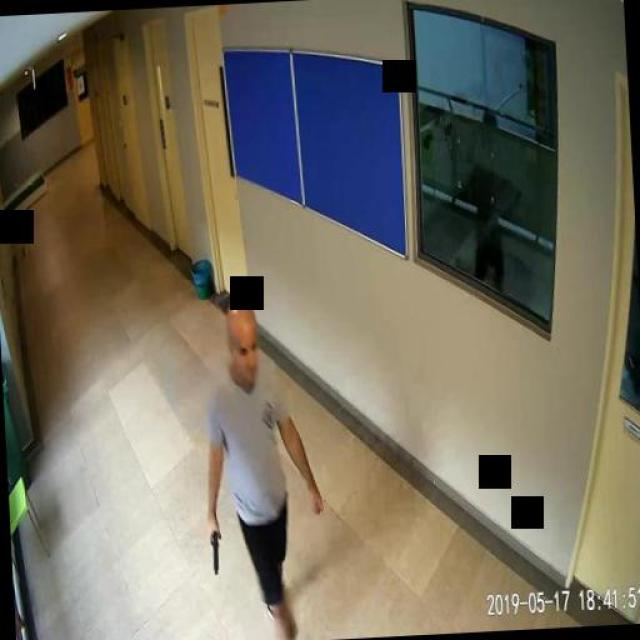gun: (208, 521, 222, 574)
